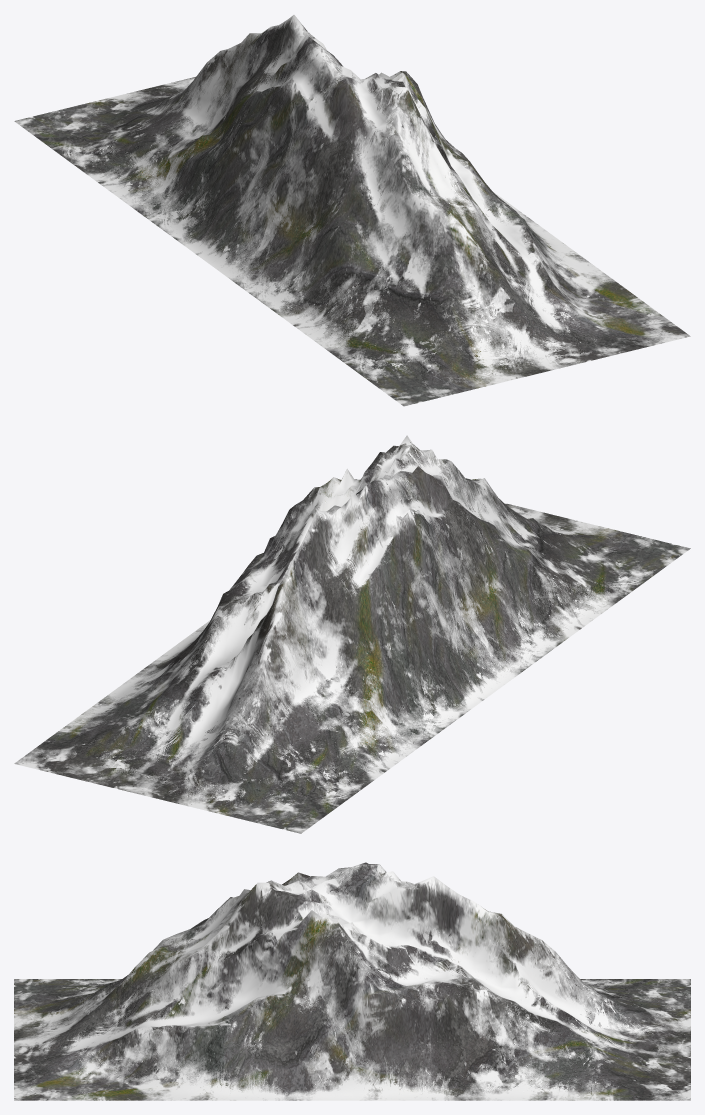
File: mountain1.glb
3 views of the same model, one above another, from view 1: azimuth 30°, elevation 25°; view 2: azimuth 150°, elevation 25°; view 3: azimuth 270°, elevation 25° (orthographic). The views are drawn at different scales.
Parts seen in each view (by area): view 1: Object_2; view 2: Object_2; view 3: Object_2.
Part boxes in pixels (left/top/right/bottom): Object_2: left=14, top=15, right=690, bottom=406; Object_2: left=14, top=435, right=690, bottom=833; Object_2: left=14, top=862, right=690, bottom=1100.
Size of the model in its own units: 600 by 376 by 1411.
Materials: 1 (1 with a texture image).
